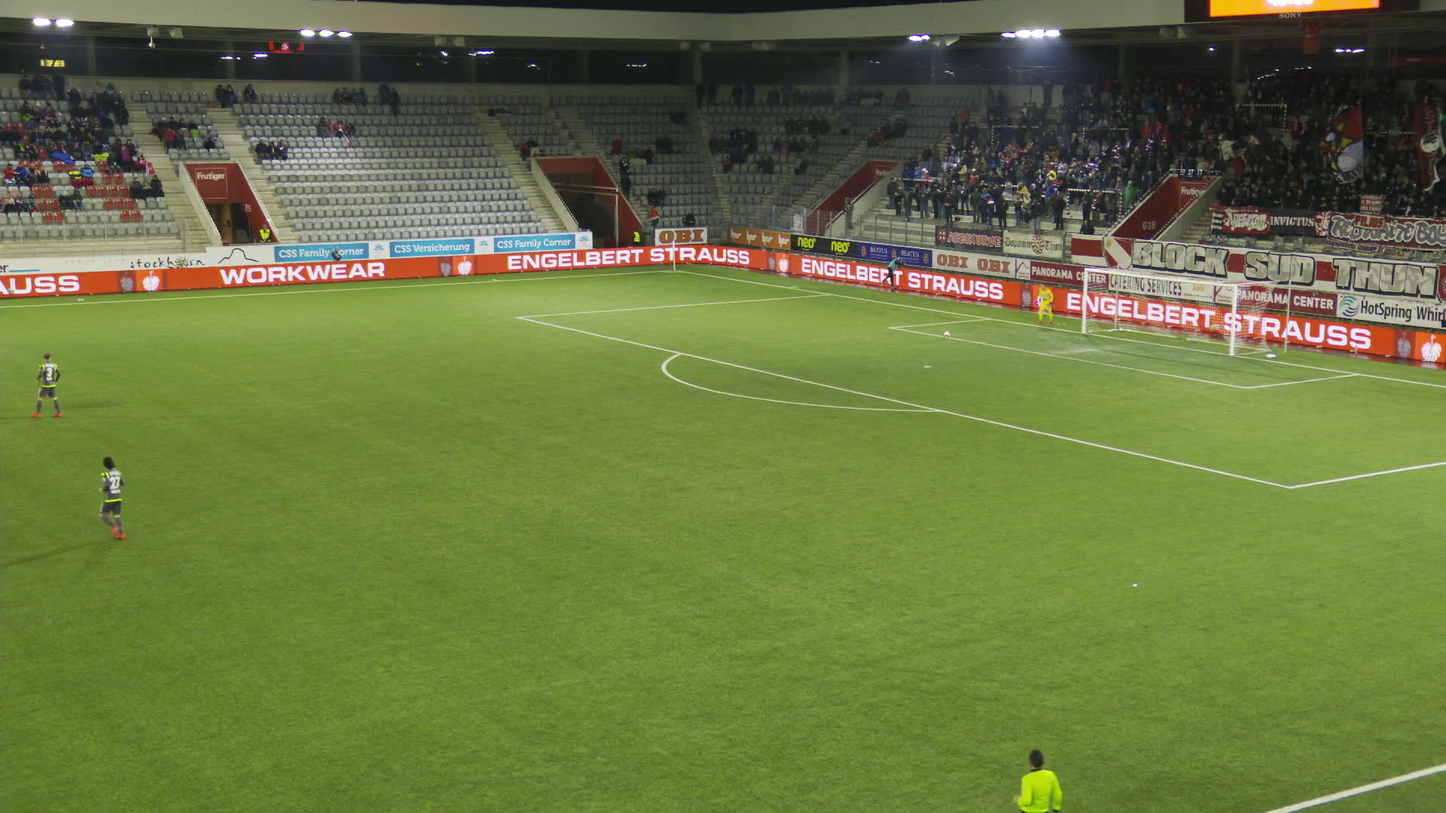ball: (944, 331, 951, 338)
player: (99, 455, 128, 538), (31, 352, 63, 418), (1037, 282, 1054, 325)
referee: (1012, 748, 1063, 811)
